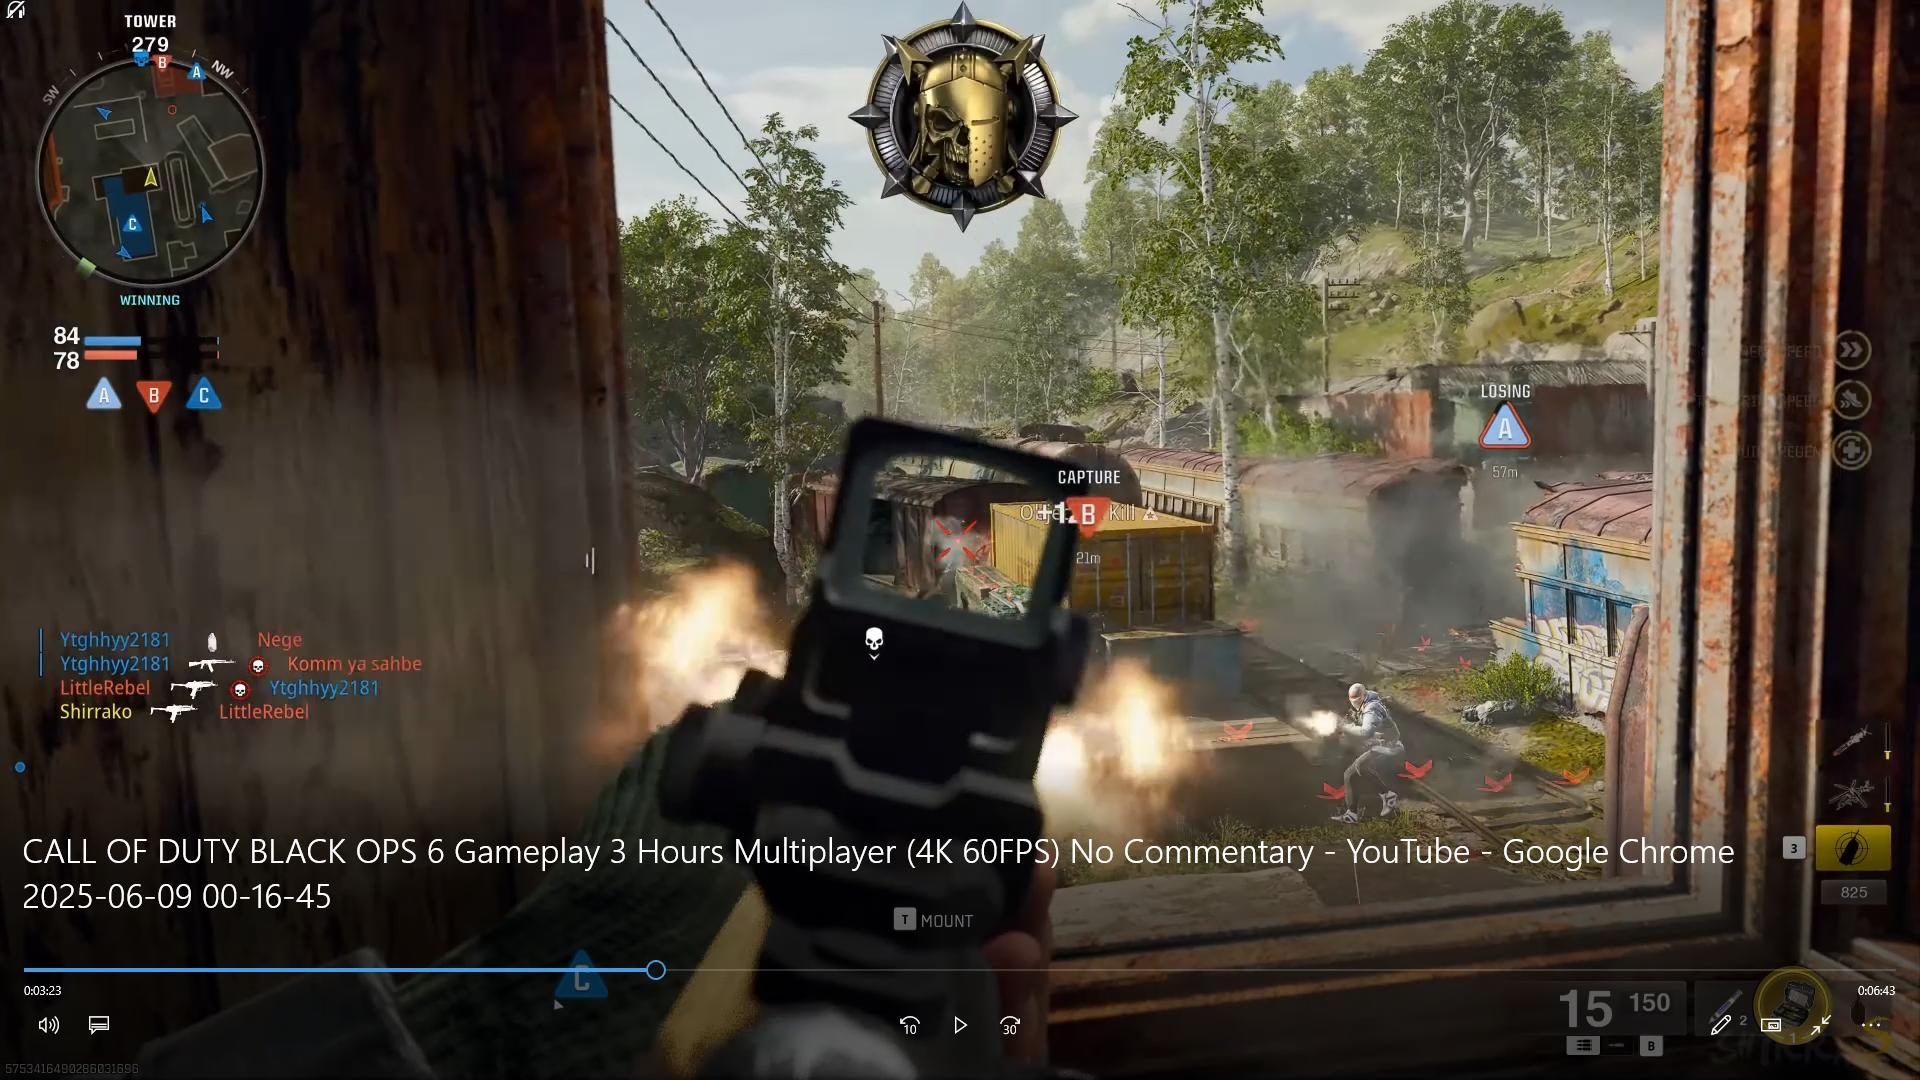Enemy: (1312, 665, 1407, 828)
